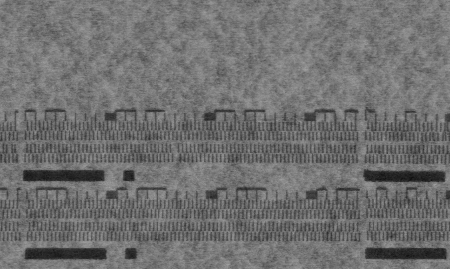Broken hole: (170, 143, 183, 164)
Oblique printing: (435, 132, 449, 144), (366, 120, 378, 132)
